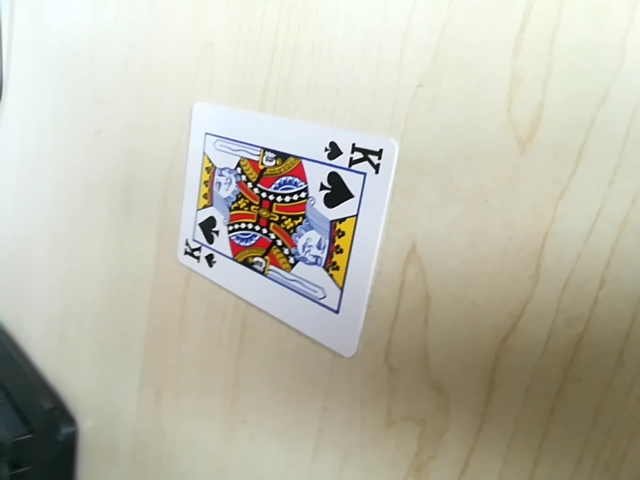ht k: (322, 139, 384, 168), (180, 236, 219, 269)
